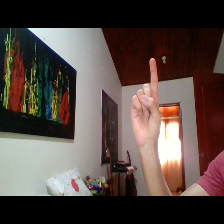2T: (124, 55, 167, 149)
